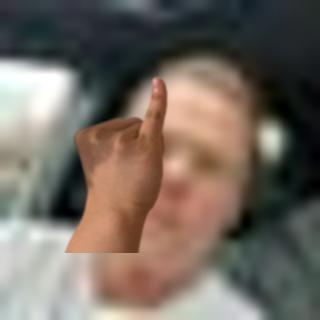FINE: (68, 75, 175, 222)
